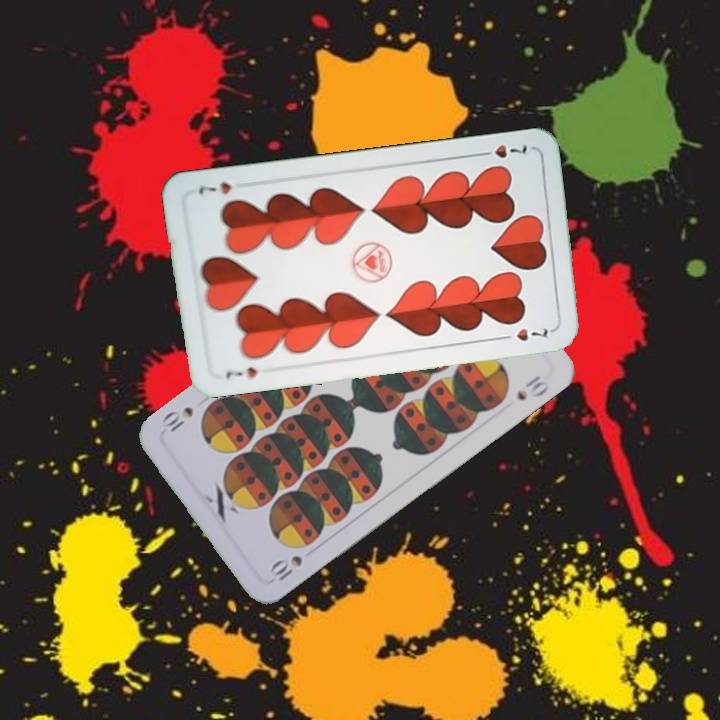H7: (474, 140, 531, 161), (221, 363, 260, 382)
S10: (268, 551, 305, 584)
